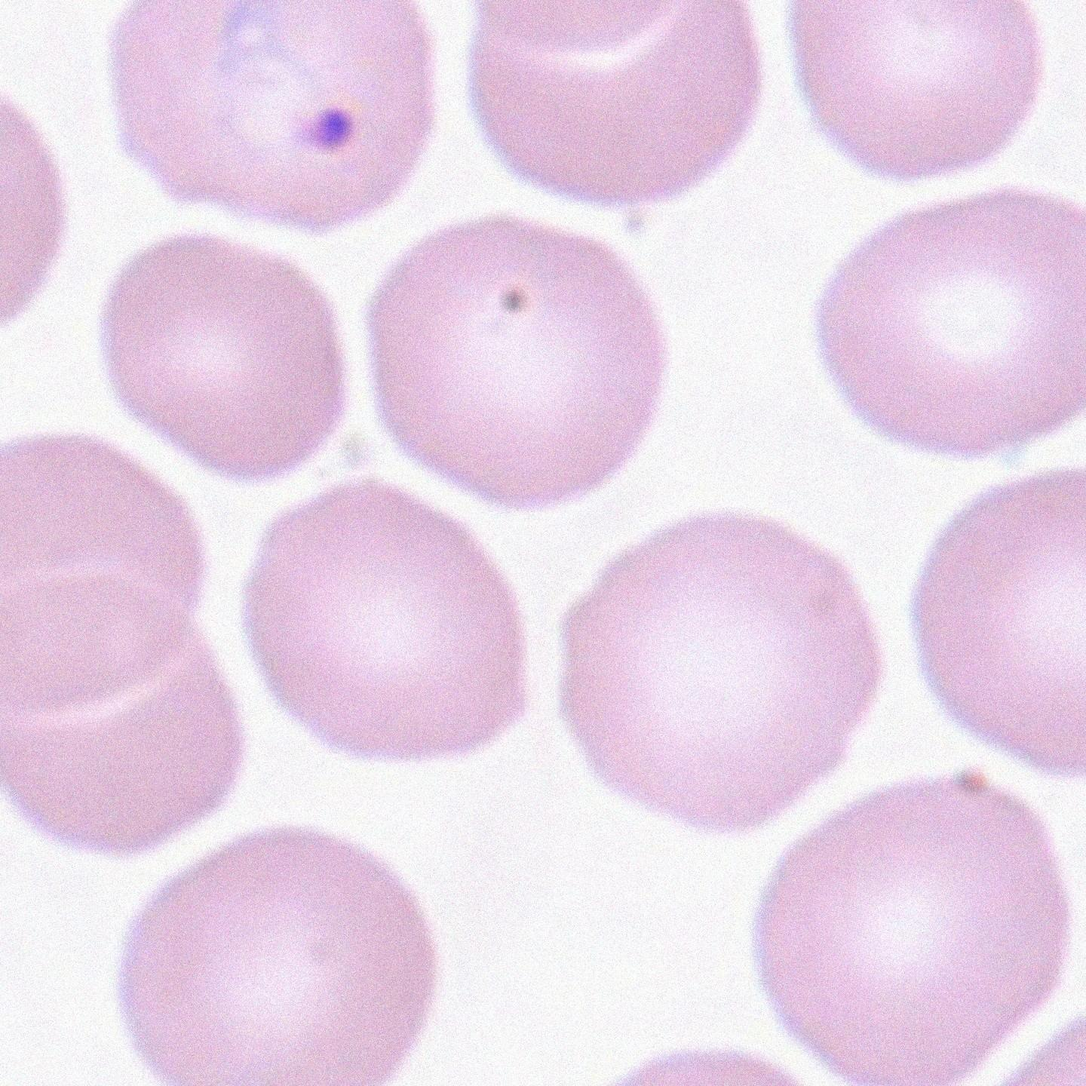Infected: (106, 0, 434, 232)
Uninfected: (561, 519, 892, 836), (762, 760, 1069, 1086), (367, 217, 669, 502), (121, 828, 444, 1086), (241, 486, 528, 766), (817, 187, 1086, 450), (93, 232, 357, 484), (5, 571, 235, 853), (470, 0, 754, 202), (0, 433, 203, 705), (910, 473, 1086, 766), (789, 0, 1041, 175)
